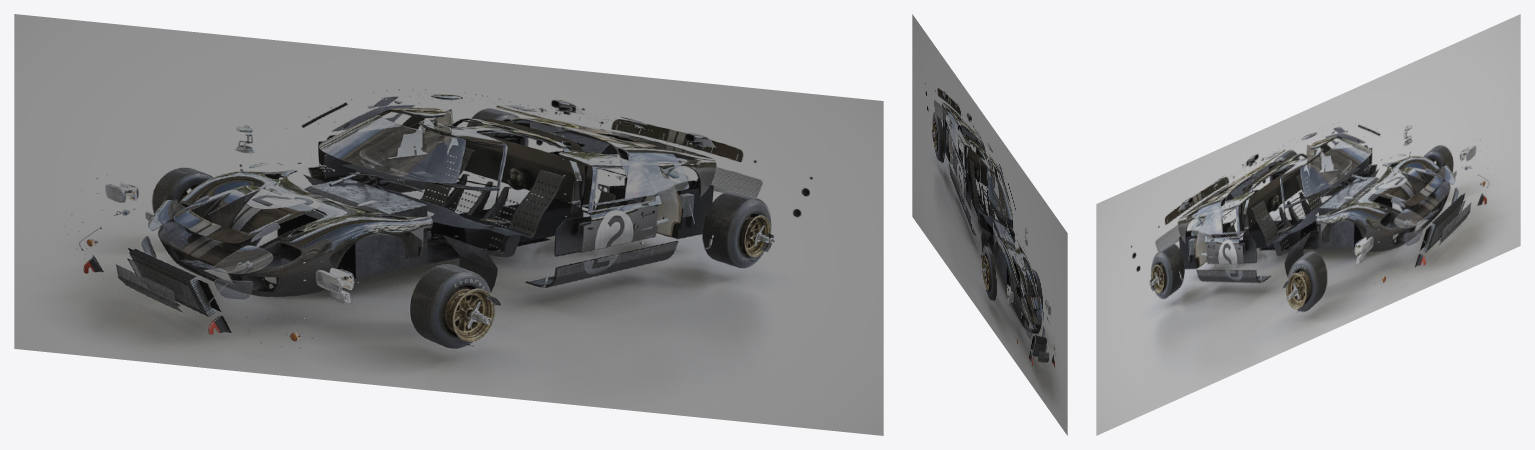
The model's file is nft8.glb.
3 renders of one model, left to right at view 1: azimuth 30°, elevation 25°; view 2: azimuth 150°, elevation 25°; view 3: azimuth 270°, elevation 25°, orthographic. The views are drawn at different scales.
Visible parts, largest first — view 1: nft8.001; view 2: nft8.001; view 3: nft8.001.
Part boxes in pixels (bbox=[...]): nft8.001: bbox=[14, 14, 883, 435]; nft8.001: bbox=[912, 14, 1067, 435]; nft8.001: bbox=[1096, 14, 1520, 435].
Bounding box in the file's own units: 3.27 × 1.86 × 3.09.
Materials: 1 (1 with a texture image).
